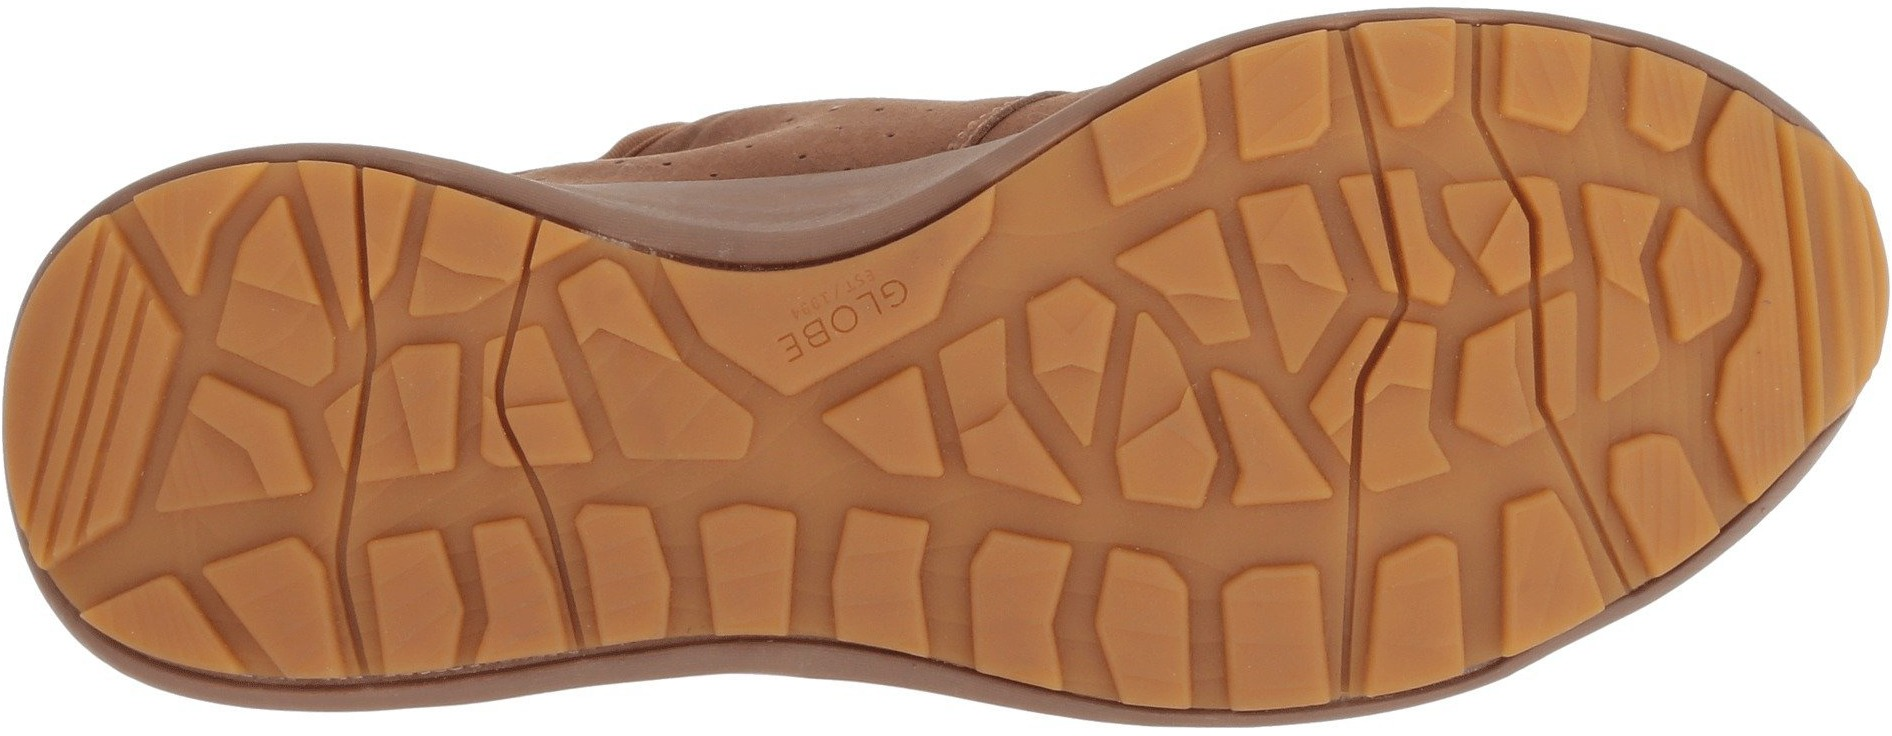circle: (823, 303, 866, 344)
polygon: (1016, 270, 1129, 454)
quad: (43, 327, 159, 443)
text: (792, 279, 874, 362)
